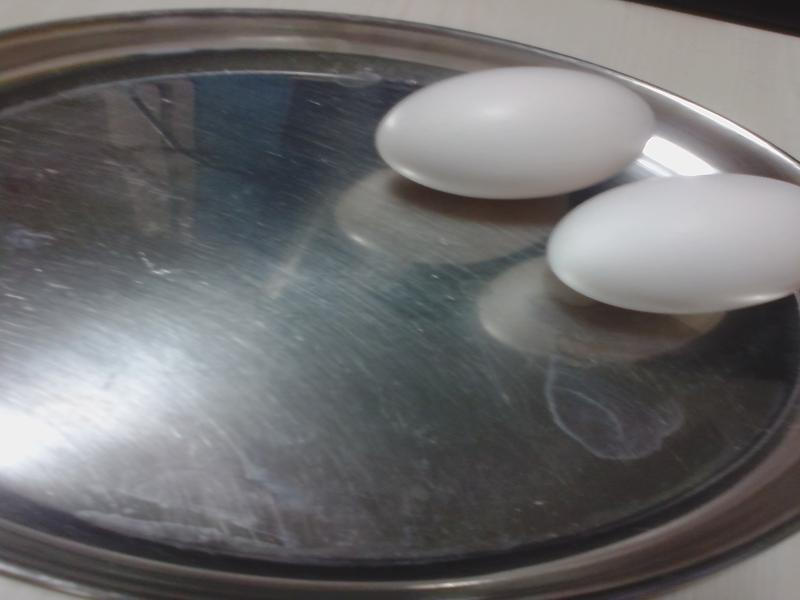egg: (377, 81, 652, 200)
